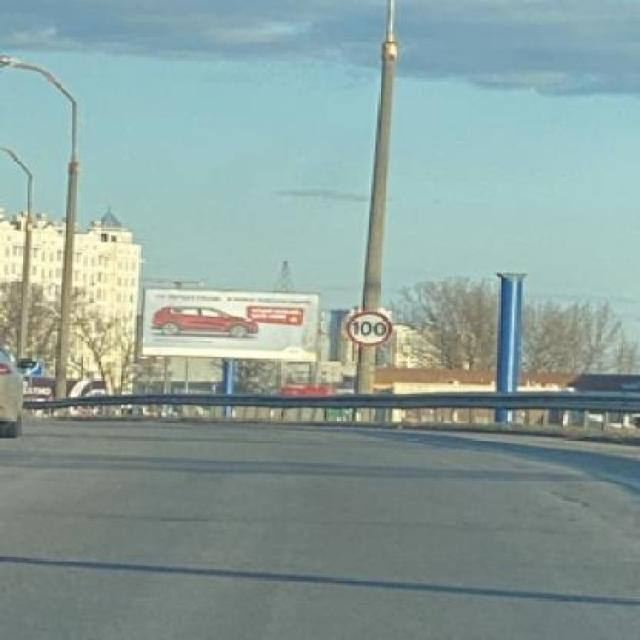forb_speed_over_100: (347, 311, 391, 346)
